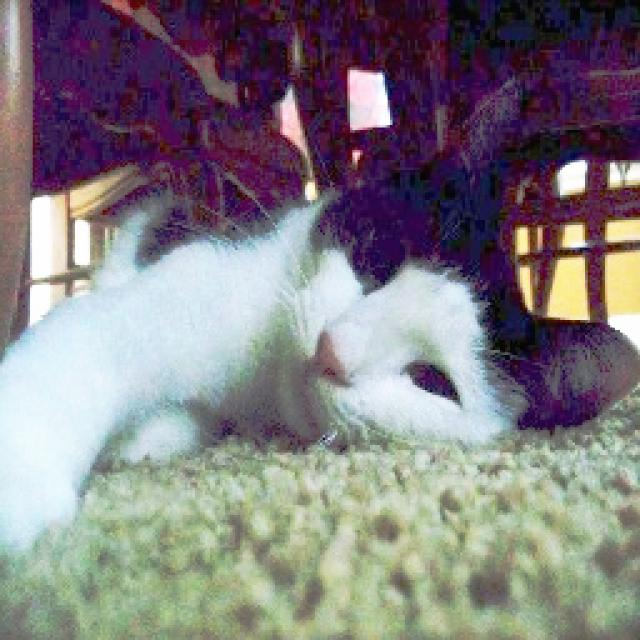cat: (4, 54, 632, 537)
